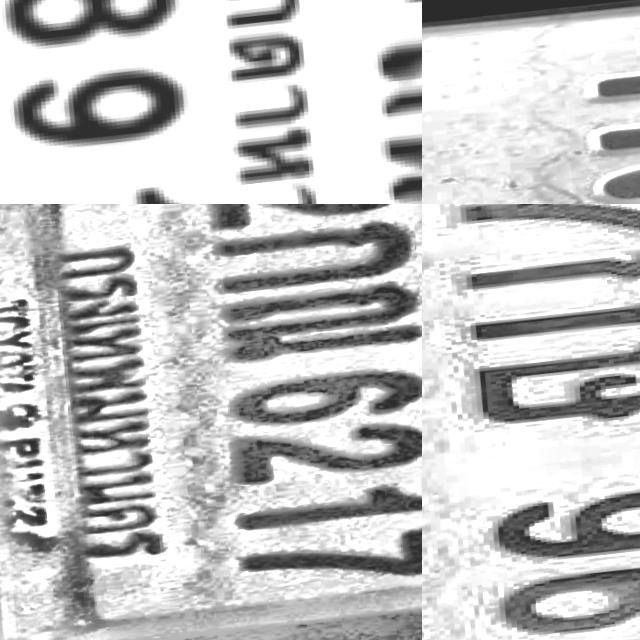license-plate: (0, 204, 422, 640), (422, 204, 640, 640), (0, 0, 422, 204), (422, 0, 640, 204)
